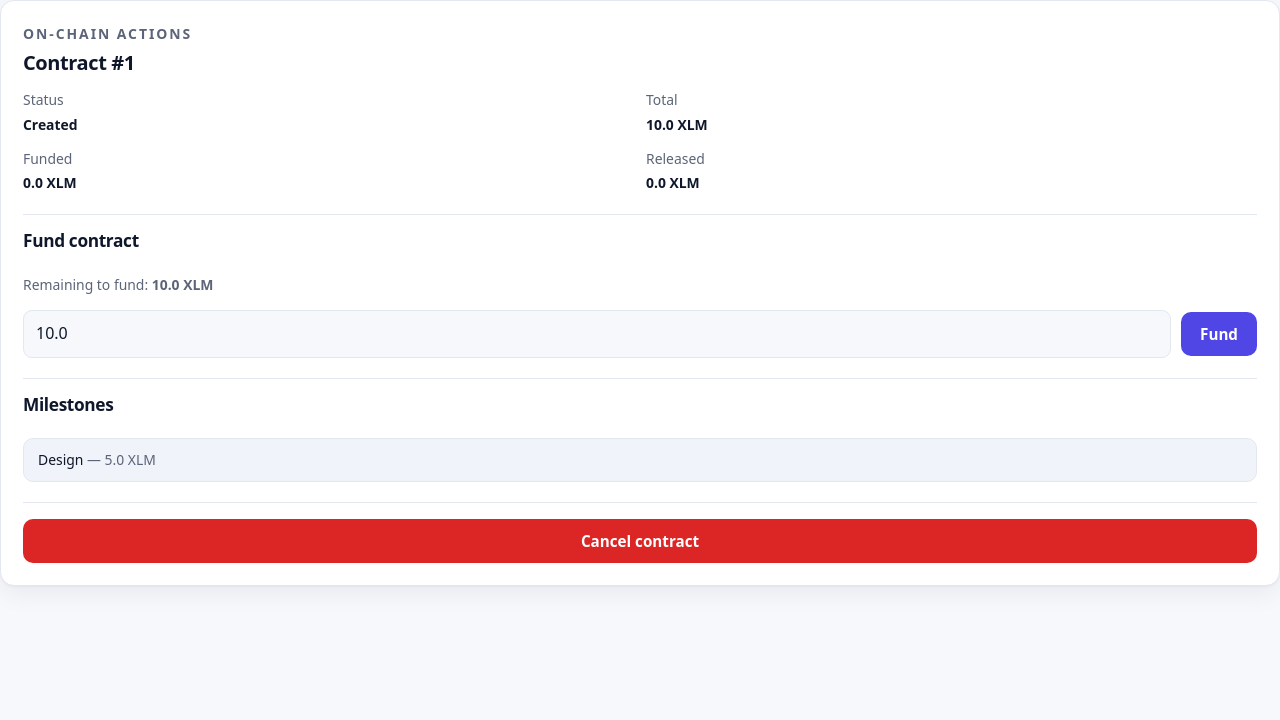
Scenario: failure states › shows error when deposit exceeds remaining
Replace the text in the number field named "deposit amount" with "999" at [597, 334], box [23,310,1171,358]
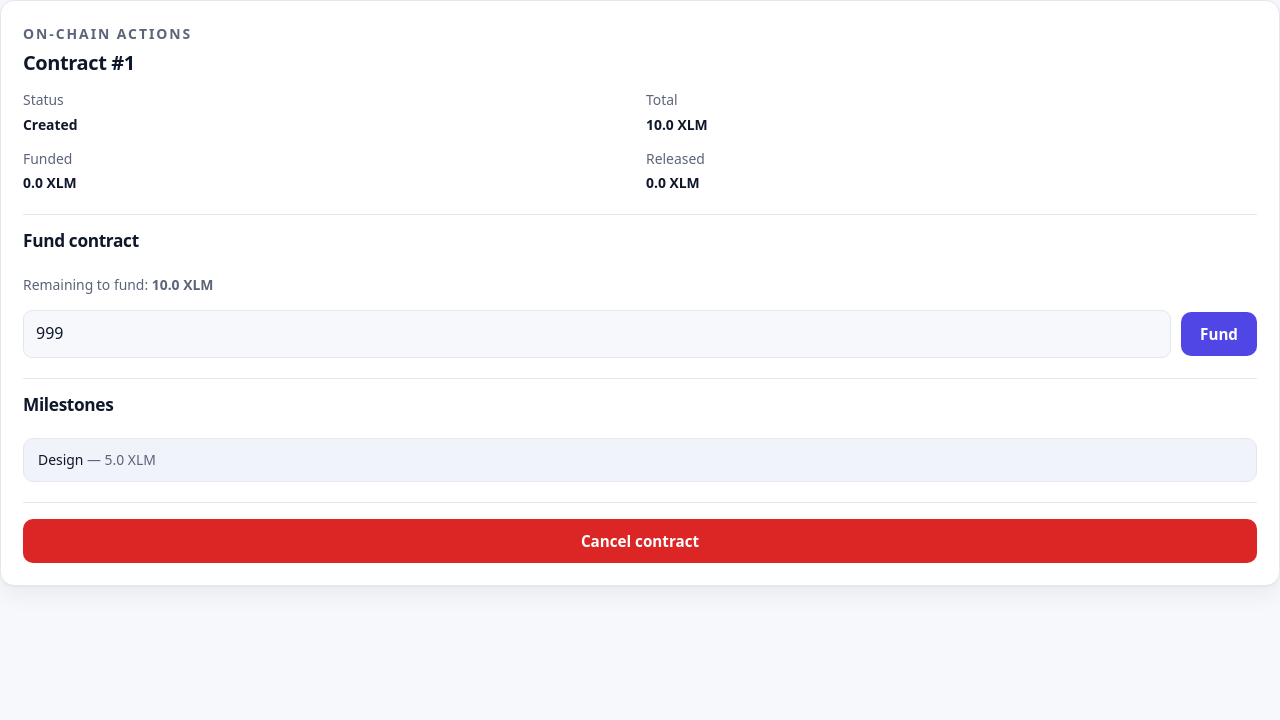
Click the button with aria-label "fund contract" at [1219, 334], box [1181,312,1257,356]
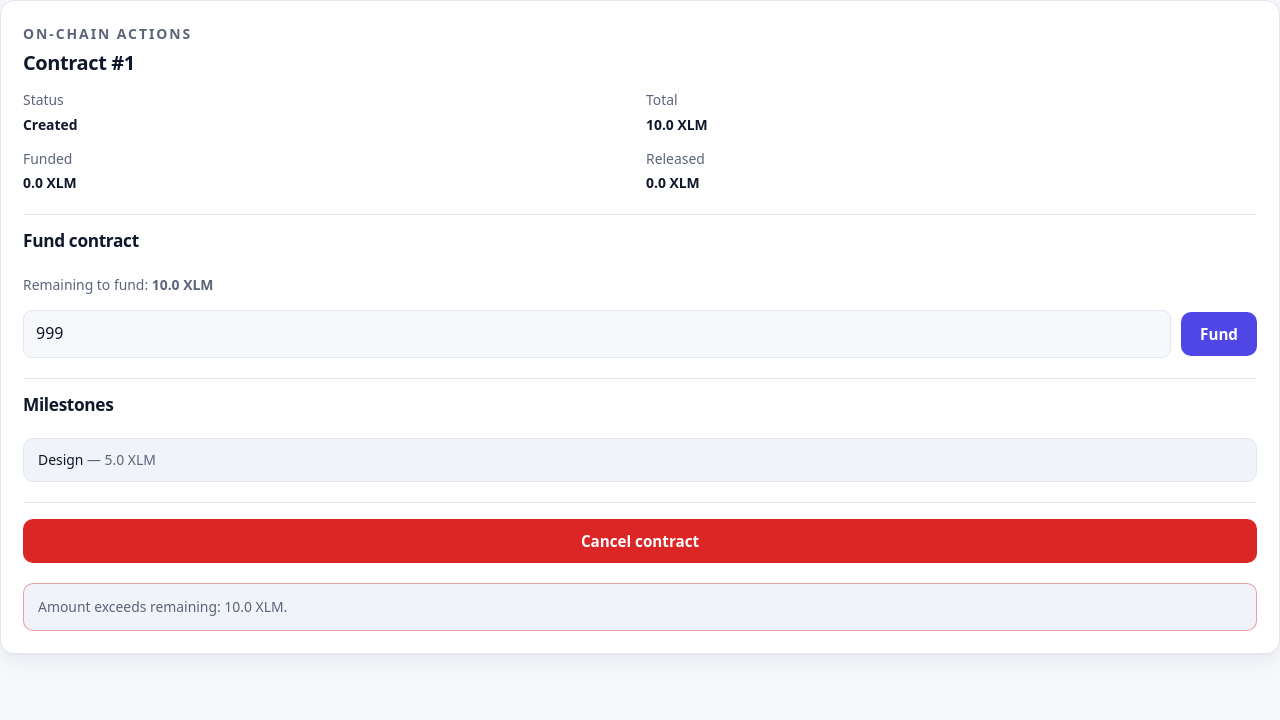
Expected: the message shows "exceeds remaining", [38,597,287,616]
